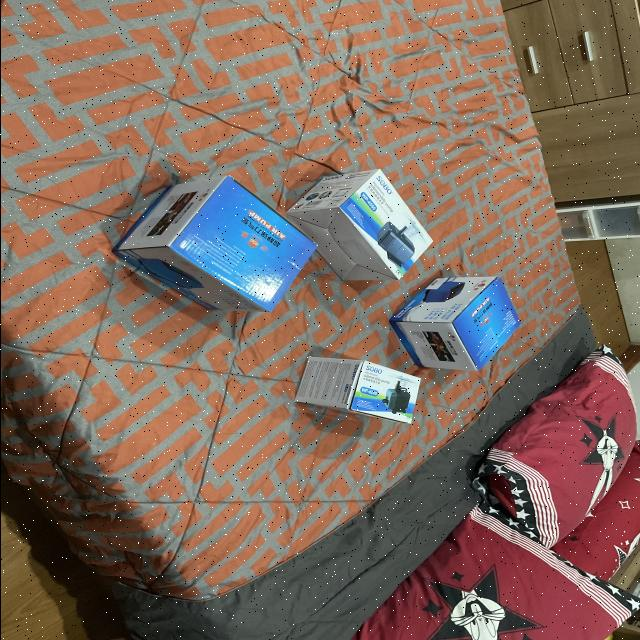SOBO_WP_4200: (280, 155, 434, 281), (268, 346, 420, 431)
YAMANO_LPP_20: (93, 159, 308, 327), (382, 262, 512, 374)
